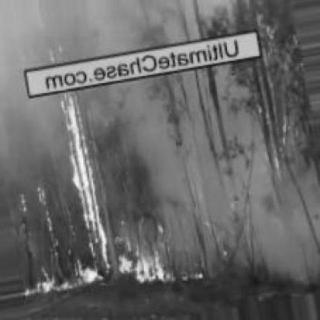Fire: (26, 81, 104, 295), (99, 215, 194, 287)
